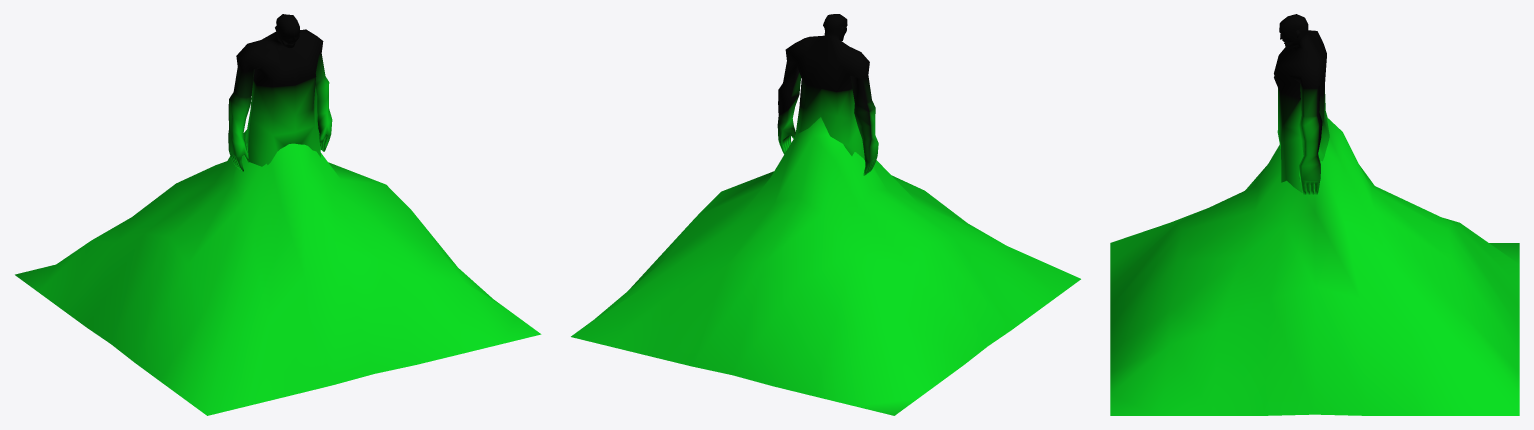
Rendered from ColossalPaths1Model.fbx.
The picture shows the model from 3 angles, left to right: view 1: azimuth 30°, elevation 25°; view 2: azimuth 150°, elevation 25°; view 3: azimuth 270°, elevation 25°; orthographic projection. The views are drawn at different scales.
Visible parts, largest first — view 1: Colossal_Paths; view 2: Colossal_Paths; view 3: Colossal_Paths.
Part boxes in pixels (x1=…): Colossal_Paths: x1=15, y1=14, x2=541, y2=415; Colossal_Paths: x1=571, y1=14, x2=1080, y2=415; Colossal_Paths: x1=1110, y1=14, x2=1519, y2=415.
Size of the model in its own units: 17820 by 15097 by 17820.
